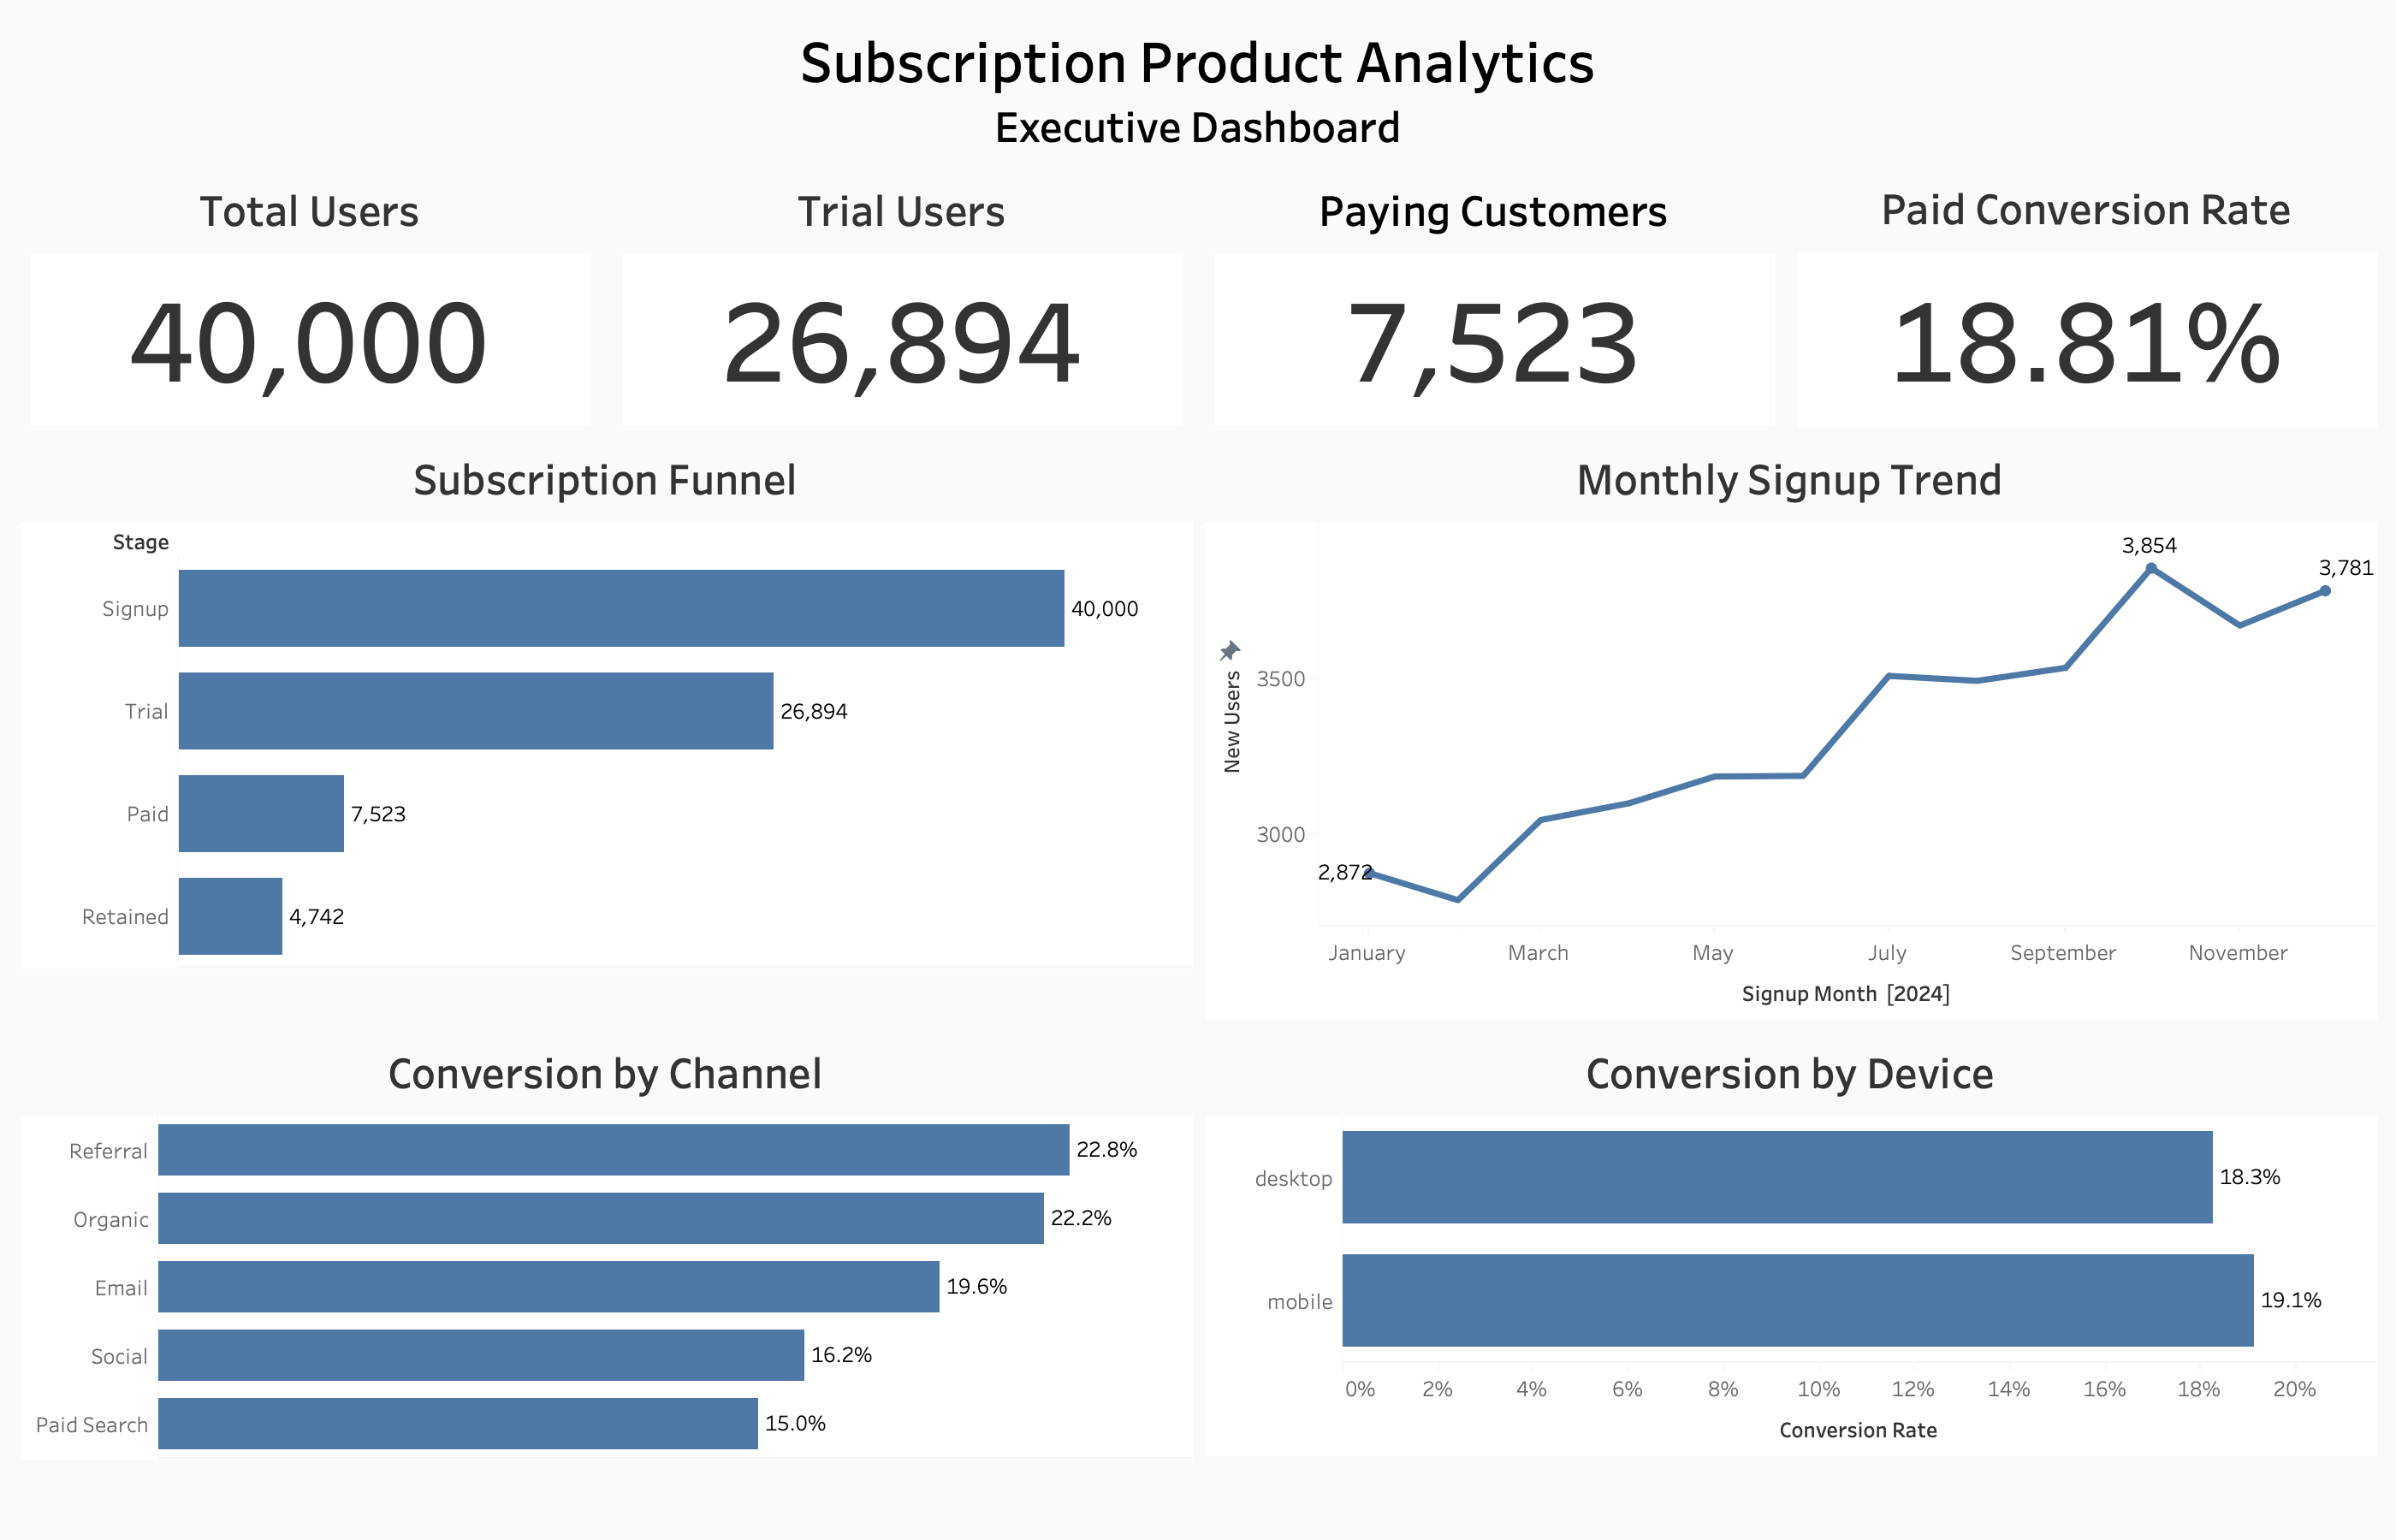

The dashboard page shown, as its layout file describes it:
{"tool":"tableau","page":{"name":"Executive Overview","canvas":[1400,900],"ordinal":2},"visuals":[{"type":"text","box":[8,8,1384,87]},{"type":"worksheet","title":"KPI - Total Users","mark":"Automatic","box":[8,95,346,158]},{"type":"worksheet","title":"KPI - Trial Users","mark":"Automatic","box":[354,95,346,158]},{"type":"worksheet","title":"KPI - Paid Users","mark":"Automatic","box":[700,95,346,158]},{"type":"worksheet","title":"KPI - Paid Conversion Rate","mark":"Automatic","box":[1046,95,346,158]},{"type":"worksheet","title":"Subscription Funnel","mark":"Automatic","rows":["stage"],"cols":["users"],"box":[8,253,692,347]},{"type":"worksheet","title":"Monthly Signup Trend","mark":"Line","rows":["user_id"],"cols":["signup_date"],"box":[700,253,692,347]},{"type":"worksheet","title":"Conversion by Acqusition Channel","mark":"Automatic","rows":["acquisition_channel"],"cols":["converted"],"box":[8,600,692,292]},{"type":"worksheet","title":"Conversion by Device","mark":"Automatic","rows":["device"],"cols":["converted"],"box":[700,600,692,292]}]}

Visuals, with their boxes in screenshot pixels (x1, y1, x2, y2), scaled from the page's 1400x900 canvas onto the 2396x1540 screenshot:
text: pyautogui.locateOnScreen(14, 14, 2382, 163)
"KPI - Total Users" worksheet: pyautogui.locateOnScreen(14, 163, 606, 433)
"KPI - Trial Users" worksheet: pyautogui.locateOnScreen(606, 163, 1198, 433)
"KPI - Paid Users" worksheet: pyautogui.locateOnScreen(1198, 163, 1790, 433)
"KPI - Paid Conversion Rate" worksheet: pyautogui.locateOnScreen(1790, 163, 2382, 433)
"Subscription Funnel" worksheet: pyautogui.locateOnScreen(14, 433, 1198, 1027)
"Monthly Signup Trend" worksheet (Line marks): pyautogui.locateOnScreen(1198, 433, 2382, 1027)
"Conversion by Acqusition Channel" worksheet: pyautogui.locateOnScreen(14, 1027, 1198, 1526)
"Conversion by Device" worksheet: pyautogui.locateOnScreen(1198, 1027, 2382, 1526)
